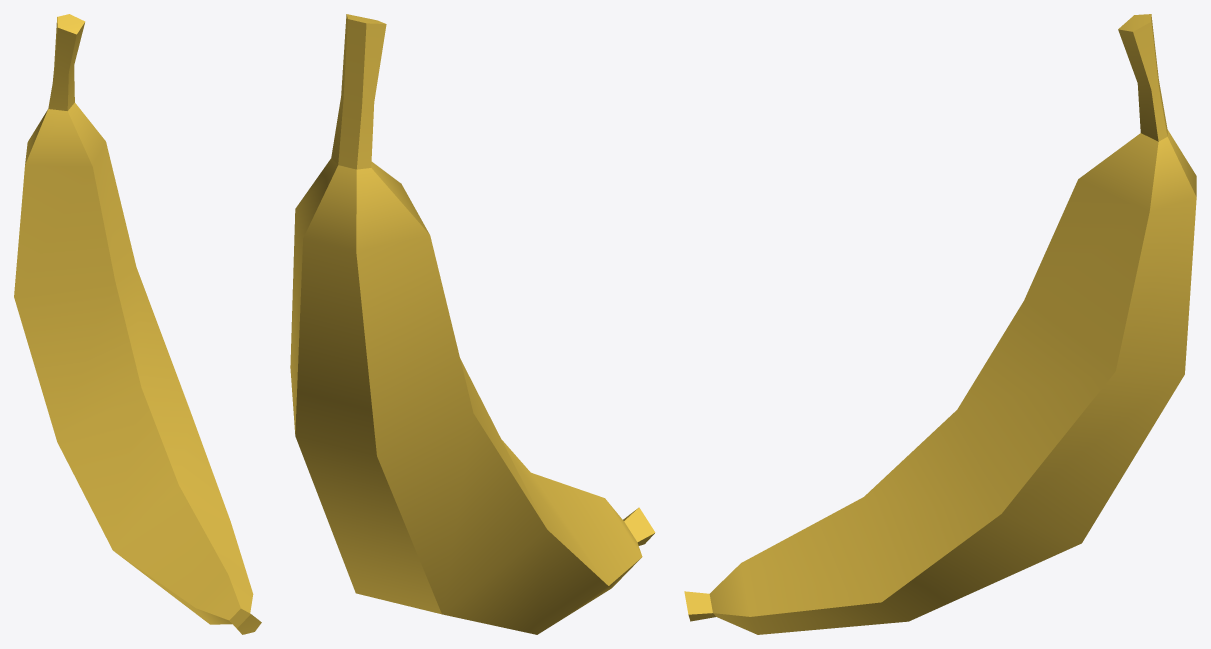
The model's file is GoldBanana.fbx.
3 views of the same model, side by side, from view 1: azimuth 30°, elevation 25°; view 2: azimuth 150°, elevation 25°; view 3: azimuth 270°, elevation 25° (orthographic). The views are drawn at different scales.
Parts seen in each view (by area): view 1: gold; view 2: gold; view 3: gold.
Boxes of the visible parts, x1=… form: gold: x1=14, y1=14, x2=261, y2=634; gold: x1=290, y1=14, x2=655, y2=634; gold: x1=684, y1=14, x2=1196, y2=634.
Size of the model in its own units: 20.52 by 72.52 by 55.18.
1 material, 1 textured.
